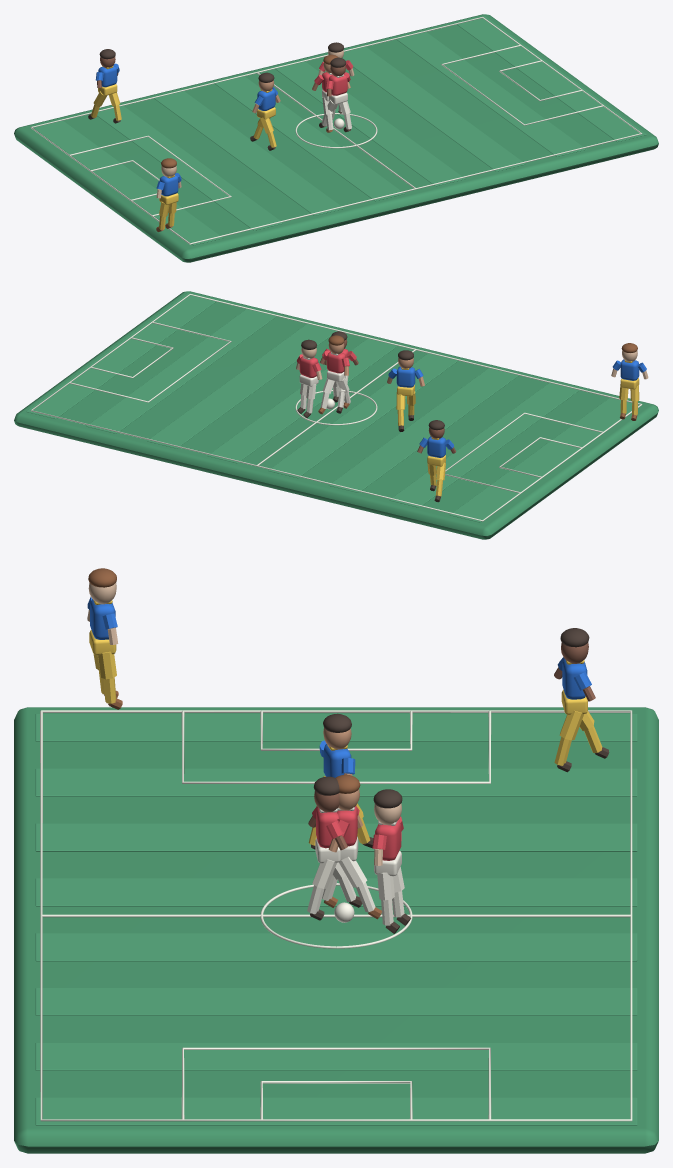
The model's file is match-scene-pilot.glb.
The picture shows the model from 3 angles, top to bottom: view 1: azimuth 30°, elevation 25°; view 2: azimuth 150°, elevation 25°; view 3: azimuth 270°, elevation 25°; orthographic projection. The views are drawn at different scales.
Visible parts, largest first — view 1: Pitch tile, Mowing stripe.002, Mowing stripe.005, Mowing stripe.006, Mowing stripe.007, Mowing stripe.001, Mowing stripe, Mowing stripe.003, Mowing stripe.004, Outer touchlines, Penalty box.001, Penalty box; view 2: Pitch tile, Mowing stripe.006, Mowing stripe.005, Mowing stripe.007, Mowing stripe, Mowing stripe.002, Mowing stripe.001, Mowing stripe.003, Mowing stripe.004, Outer touchlines, Penalty box.001, Penalty box; view 3: Pitch tile, Mowing stripe.004, Mowing stripe.005, Mowing stripe.007, Mowing stripe.006, Mowing stripe.001, Mowing stripe.003, Mowing stripe, Mowing stripe.002, Outer touchlines, Halfway line, Penalty box.001 (+2 smaller).
Part boxes in pixels (x1=…): Pitch tile: x1=14, y1=14, x2=658, y2=262; Mowing stripe.002: x1=152, y1=90, x2=344, y2=215; Mowing stripe.005: x1=342, y1=45, x2=525, y2=171; Mowing stripe.006: x1=395, y1=30, x2=586, y2=156; Mowing stripe.007: x1=455, y1=16, x2=646, y2=141; Mowing stripe.001: x1=97, y1=104, x2=283, y2=230; Mowing stripe: x1=31, y1=119, x2=222, y2=245; Mowing stripe.003: x1=213, y1=75, x2=404, y2=201; Mowing stripe.004: x1=274, y1=60, x2=464, y2=186; Outer touchlines: x1=30, y1=17, x2=642, y2=244; Penalty box.001: x1=441, y1=44, x2=603, y2=125; Penalty box: x1=70, y1=135, x2=231, y2=216; Pitch tile: x1=14, y1=291, x2=658, y2=539; Mowing stripe.006: x1=86, y1=307, x2=277, y2=433; Mowing stripe.005: x1=147, y1=322, x2=338, y2=448; Mowing stripe.007: x1=26, y1=293, x2=217, y2=418; Mowing stripe: x1=450, y1=396, x2=641, y2=522; Mowing stripe.002: x1=328, y1=367, x2=520, y2=492; Mowing stripe.001: x1=389, y1=381, x2=580, y2=507; Mowing stripe.003: x1=268, y1=352, x2=459, y2=478; Mowing stripe.004: x1=208, y1=337, x2=398, y2=463; Outer touchlines: x1=30, y1=294, x2=642, y2=521; Penalty box.001: x1=69, y1=321, x2=231, y2=402; Penalty box: x1=445, y1=412, x2=602, y2=493; Pitch tile: x1=14, y1=707, x2=658, y2=1153; Mowing stripe.004: x1=35, y1=933, x2=637, y2=961; Mowing stripe.005: x1=35, y1=988, x2=637, y2=1015; Mowing stripe.007: x1=35, y1=1097, x2=637, y2=1125; Mowing stripe.006: x1=35, y1=1043, x2=637, y2=1070; Mowing stripe.001: x1=35, y1=768, x2=637, y2=796; Mowing stripe.003: x1=35, y1=878, x2=637, y2=906; Mowing stripe: x1=35, y1=714, x2=637, y2=741; Mowing stripe.002: x1=35, y1=823, x2=637, y2=851; Outer touchlines: x1=40, y1=710, x2=632, y2=1121; Halfway line: x1=42, y1=914, x2=630, y2=917; Penalty box.001: x1=181, y1=1047, x2=491, y2=1119.
Bounding box in the file's own units: 13.19 × 2.3 × 8.2.
